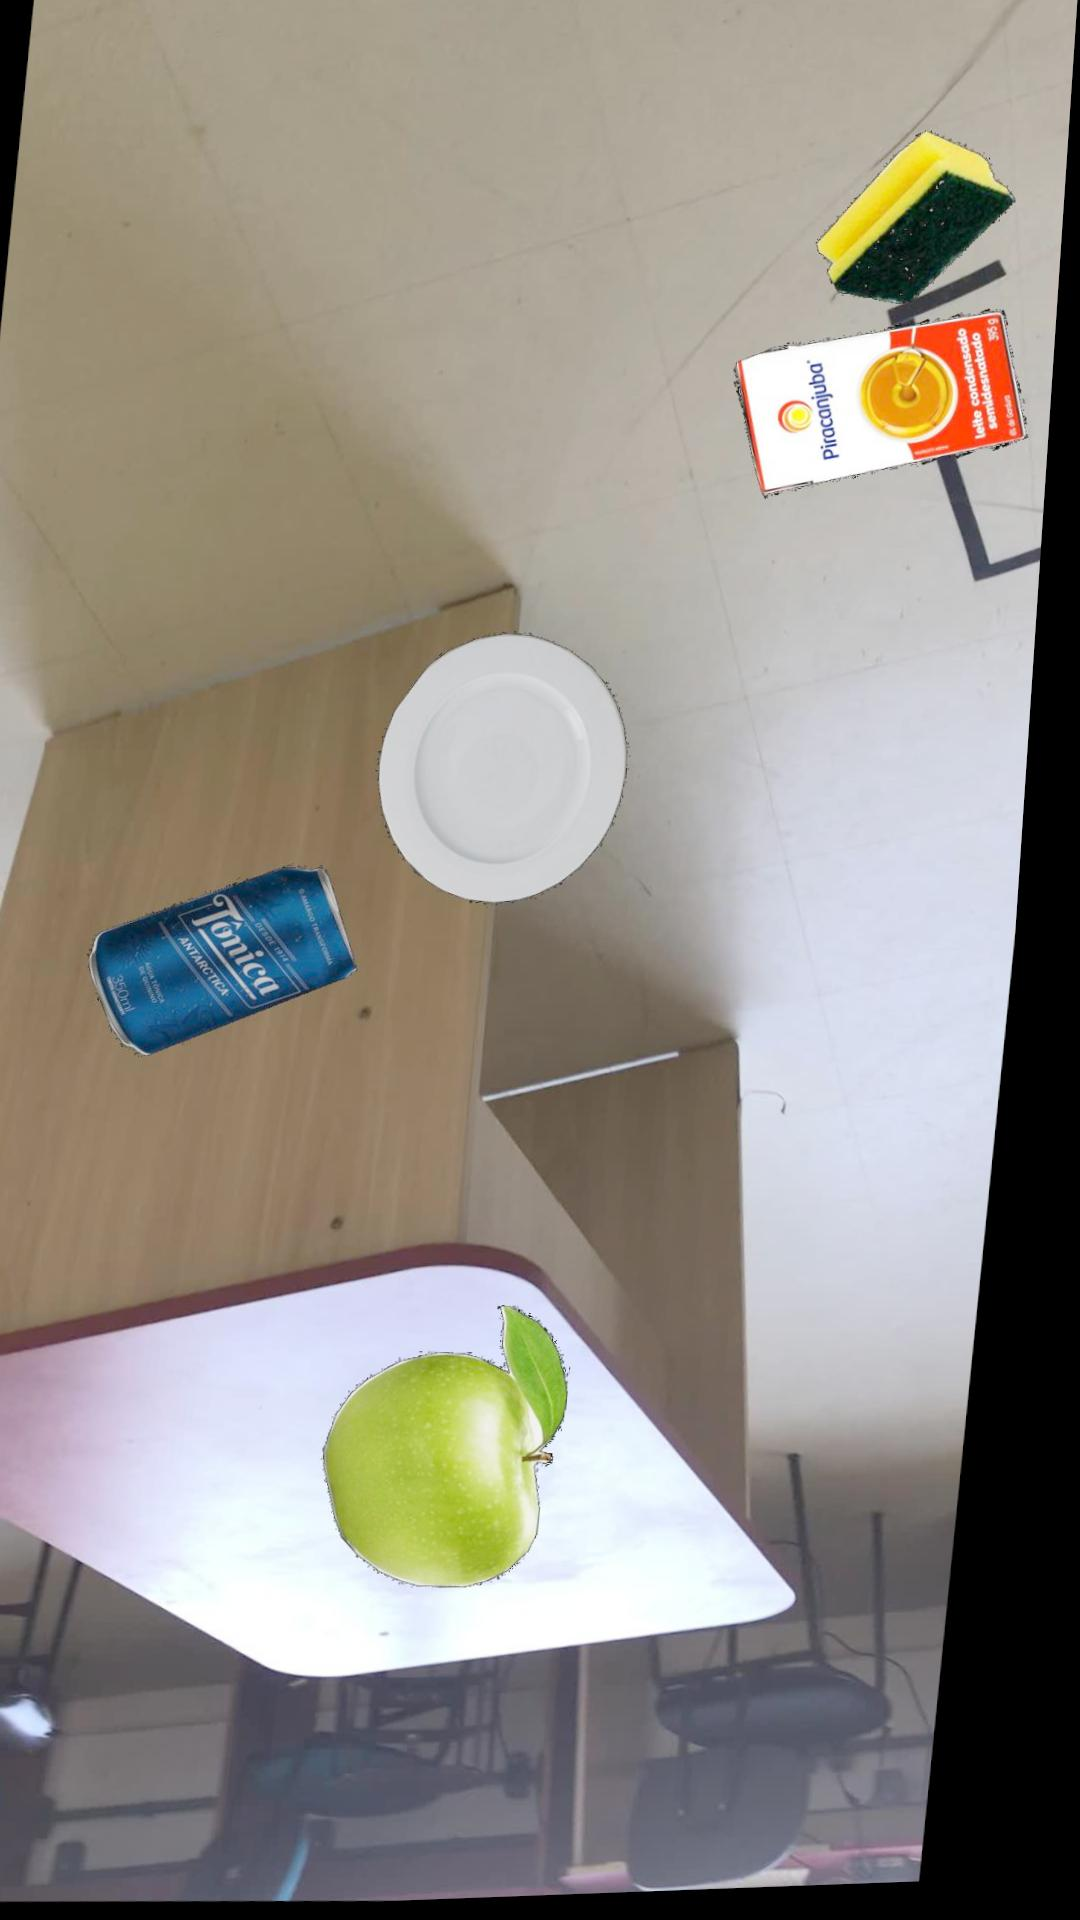green apple: (344, 1311, 588, 1593)
plate: (389, 638, 640, 907)
sponge: (820, 138, 1019, 311)
tonic: (102, 869, 372, 1058)
